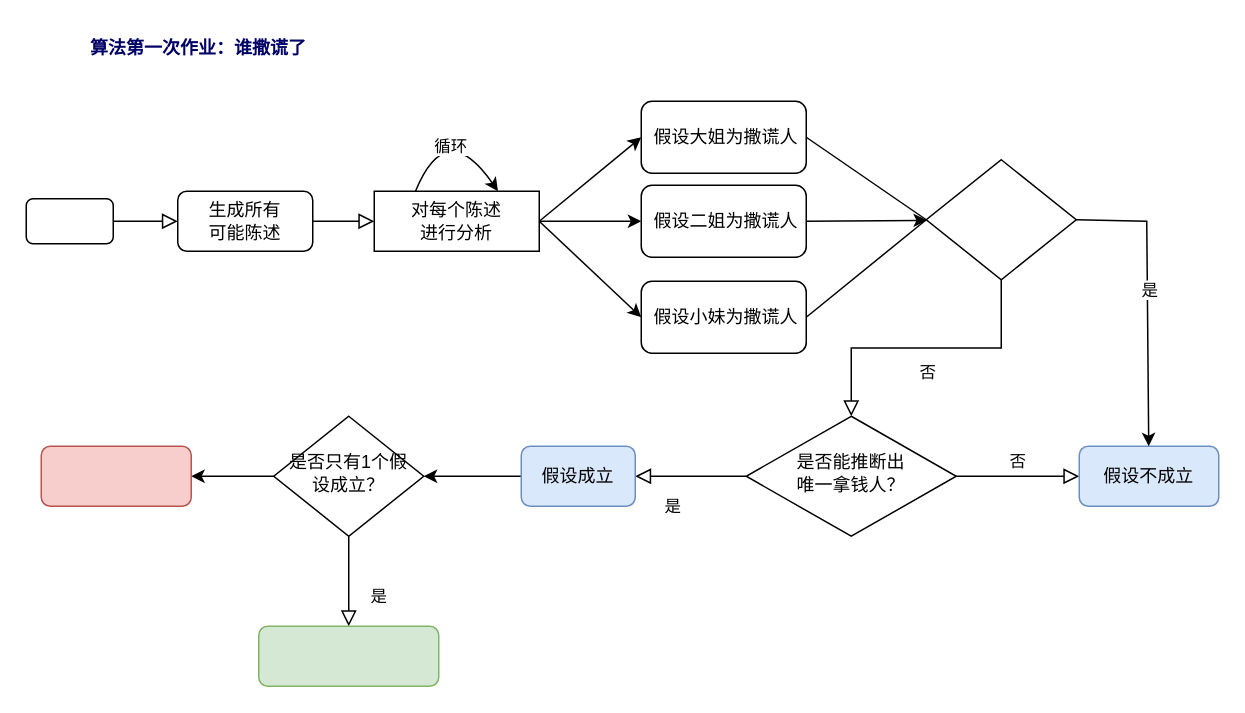
Image size: 1245x713. Some labels were removed from this diagram. The box of each missing label's shape, as (x1, y1, x2, y2) in pixels:
判断陈述 是否有矛盾？: (925, 158, 1076, 280)
开始: (25, 197, 113, 244)
输入不符合要求: (40, 445, 191, 506)
输出 撒谎人与拿钱人: (257, 625, 439, 686)
